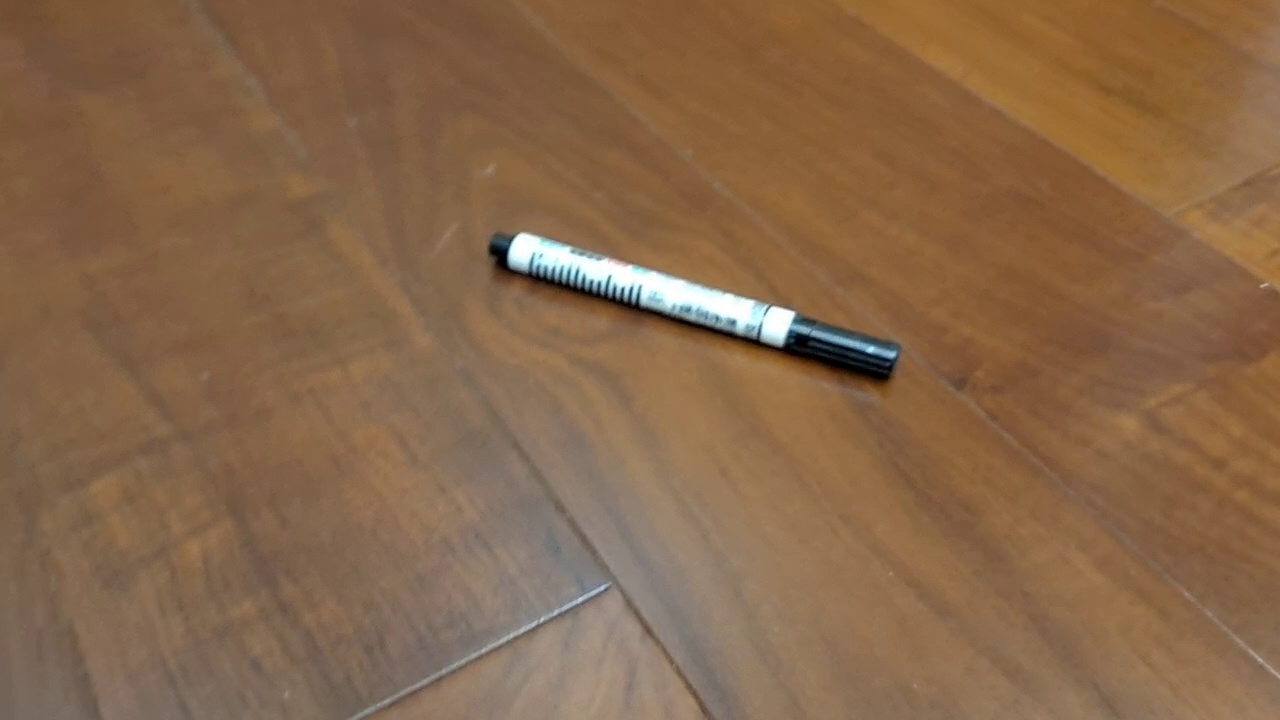pen: (488, 230, 903, 382)
